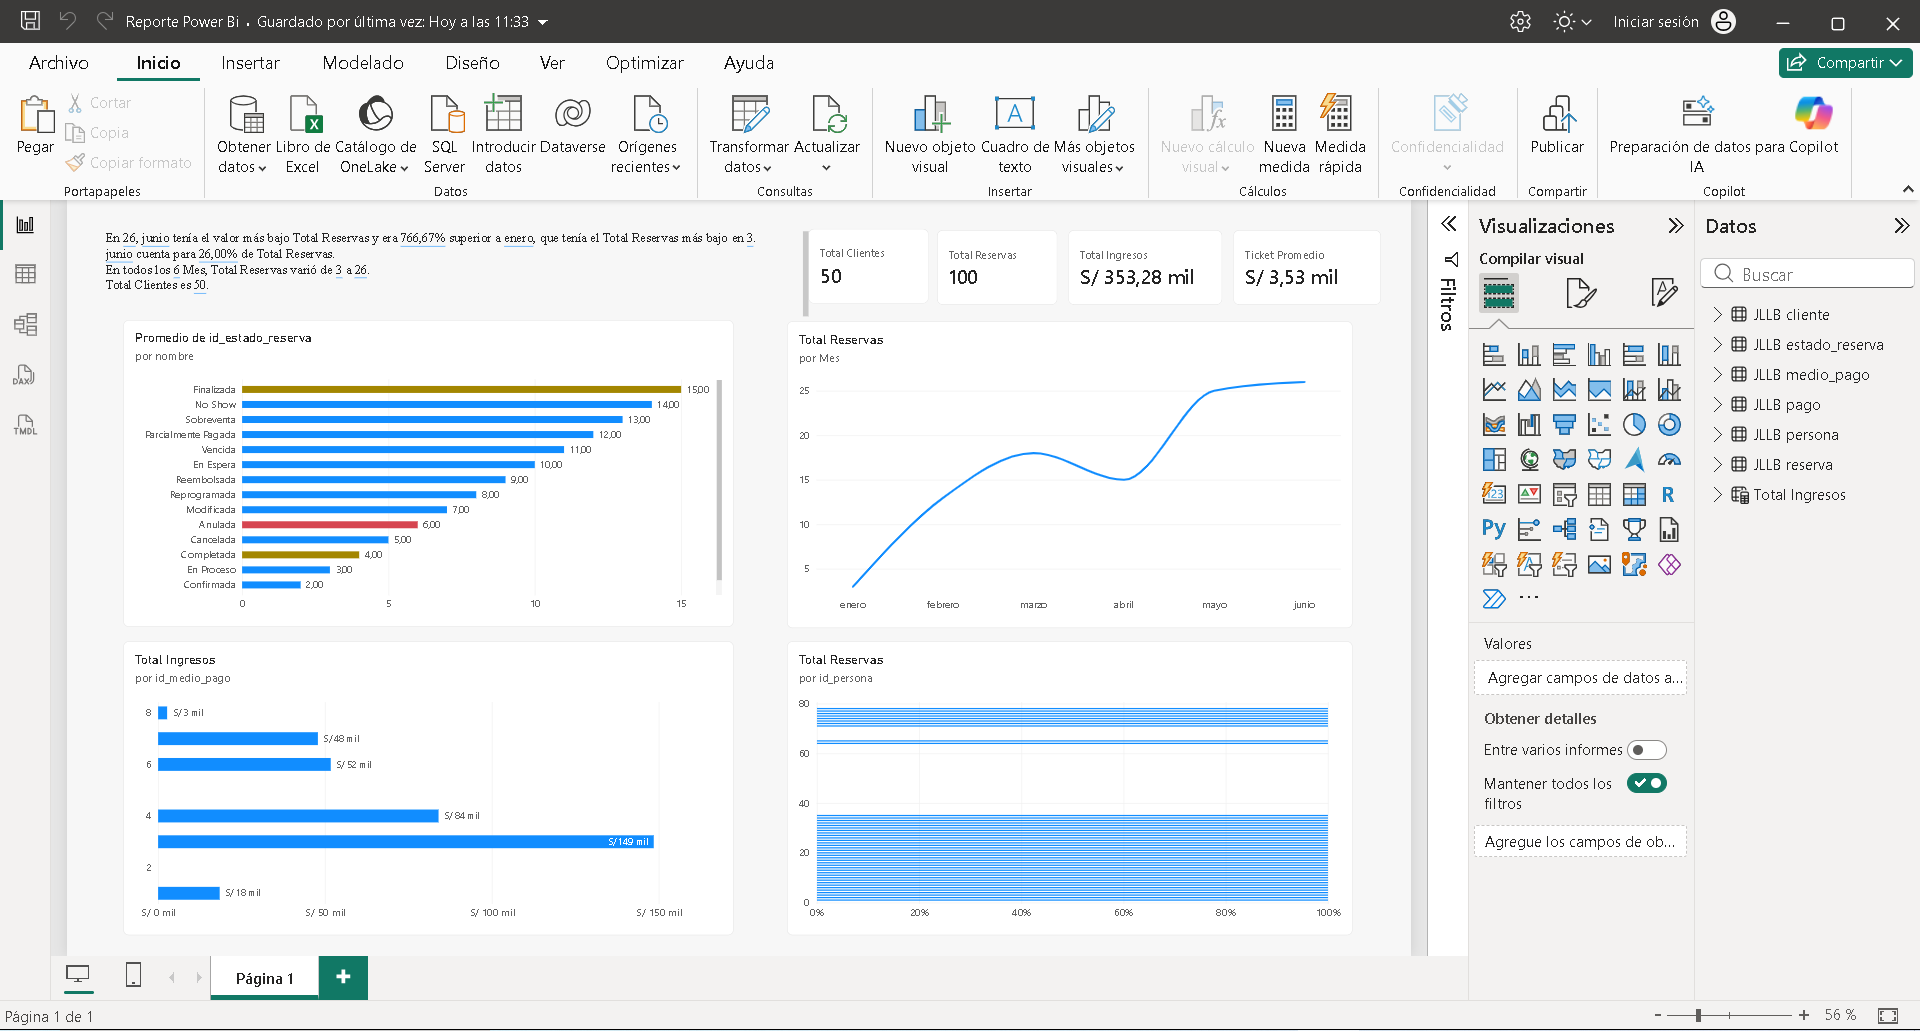

The page's visual inventory and layout, read from the dashboard file:
{"tool":"powerbi","page":{"name":"Página 1","canvas":[1920,1080],"ordinal":0},"visuals":[{"type":"cardVisual","fields":{"Data":["Total Ingresos.Total Clientes"]},"box":[1059.6,41.4,172,107],"z":2},{"type":"cardVisual","fields":{"Data":["Total Ingresos.Total Reservas"]},"box":[1243.6,42.4,172,107],"z":3},{"type":"cardVisual","fields":{"Data":["Total Ingresos.Total Ingresos"]},"box":[1429.6,43.4,220,107],"z":4},{"type":"cardVisual","fields":{"Data":["Total Ingresos.Ticket Promedio"]},"box":[1666.8,43.4,211.2,107.5],"z":5},{"type":"barChart","fields":{"Category":["JLLB estado_reserva.nombre"],"Y":["Avg(JLLB estado_reserva.id_estado_reserva)"]},"box":[80,172,872,438],"z":6},{"type":"barChart","fields":{"Category":["JLLB pago.id_medio_pago"],"Y":["Total Ingresos.Total Ingresos"]},"box":[80,630,872,420],"z":7},{"type":"lineChart","fields":{"Category":["JLLB reserva.fecha_reserva.Variación.Jerarquía de fechas.Mes"],"Y":["Total Ingresos.Total Reservas"]},"box":[1028,174,808,438],"z":8},{"type":"hundredPercentStackedBarChart","fields":{"Category":["JLLB persona.id_persona"],"Y":["Total Ingresos.Total Reservas"]},"box":[1028,630,808,420],"z":9},{"type":"textbox","box":[56,44,1004,126],"z":10}]}

Visuals, with their boxes on the page's 1920x1080 design canvas (x1, y1, x2, y2). These are canvas units, not pixel positions in the 1920x1031 screenshot, which may show the page scaled, cropped or inside an application window:
cardVisual - Total Ingresos.Total Clientes: BBox(1060, 41, 1232, 148)
cardVisual - Total Ingresos.Total Reservas: BBox(1244, 42, 1416, 149)
cardVisual - Total Ingresos.Total Ingresos: BBox(1430, 43, 1650, 150)
cardVisual - Total Ingresos.Ticket Promedio: BBox(1667, 43, 1878, 151)
barChart - JLLB estado_reserva.nombre x Avg(JLLB estado_reserva.id_estado_reserva): BBox(80, 172, 952, 610)
barChart - JLLB pago.id_medio_pago x Total Ingresos.Total Ingresos: BBox(80, 630, 952, 1050)
lineChart - JLLB reserva.fecha_reserva.Variación.Jerarquía de fechas.Mes x Total Ingresos.Total Reservas: BBox(1028, 174, 1836, 612)
hundredPercentStackedBarChart - JLLB persona.id_persona x Total Ingresos.Total Reservas: BBox(1028, 630, 1836, 1050)
textbox: BBox(56, 44, 1060, 170)
